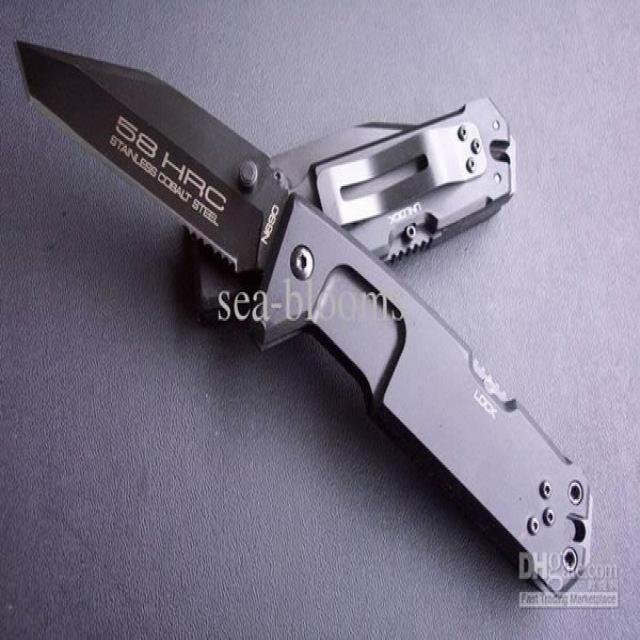knife: (13, 29, 607, 599)
